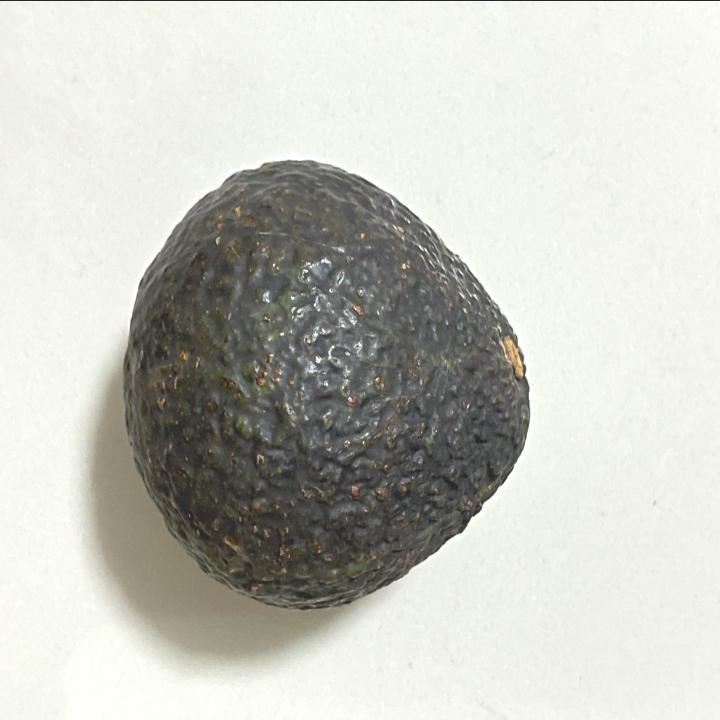Level1: (114, 146, 542, 618)
